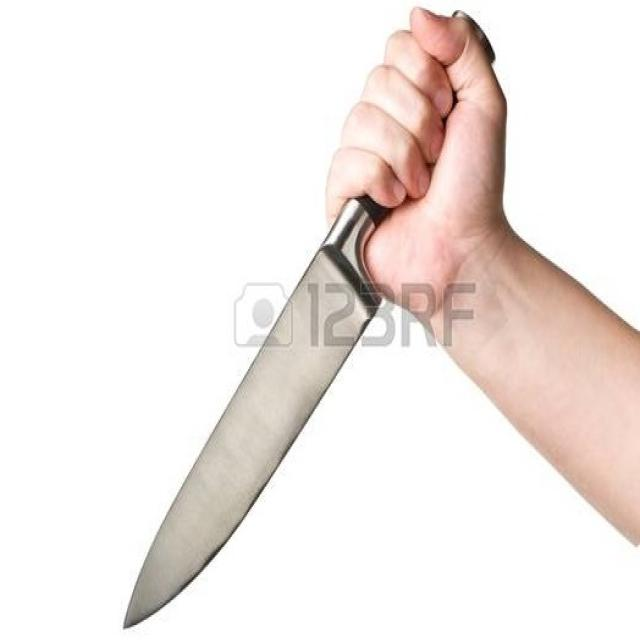knife: (120, 199, 399, 629)
